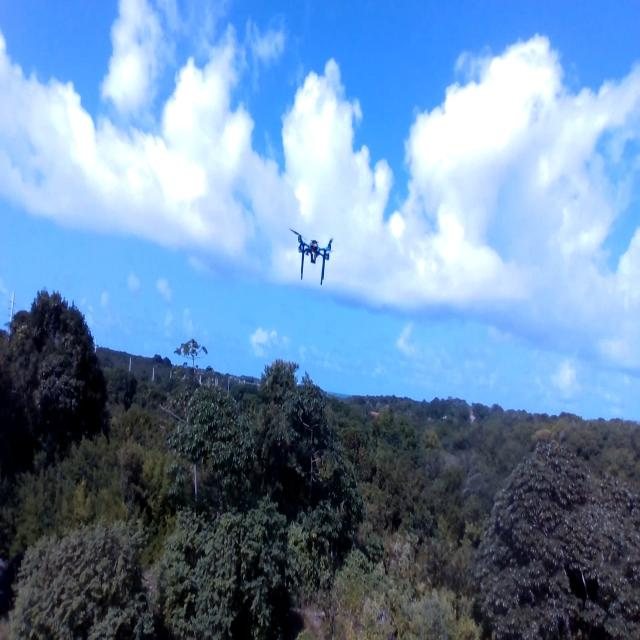-uav-: (280, 212, 349, 296)
